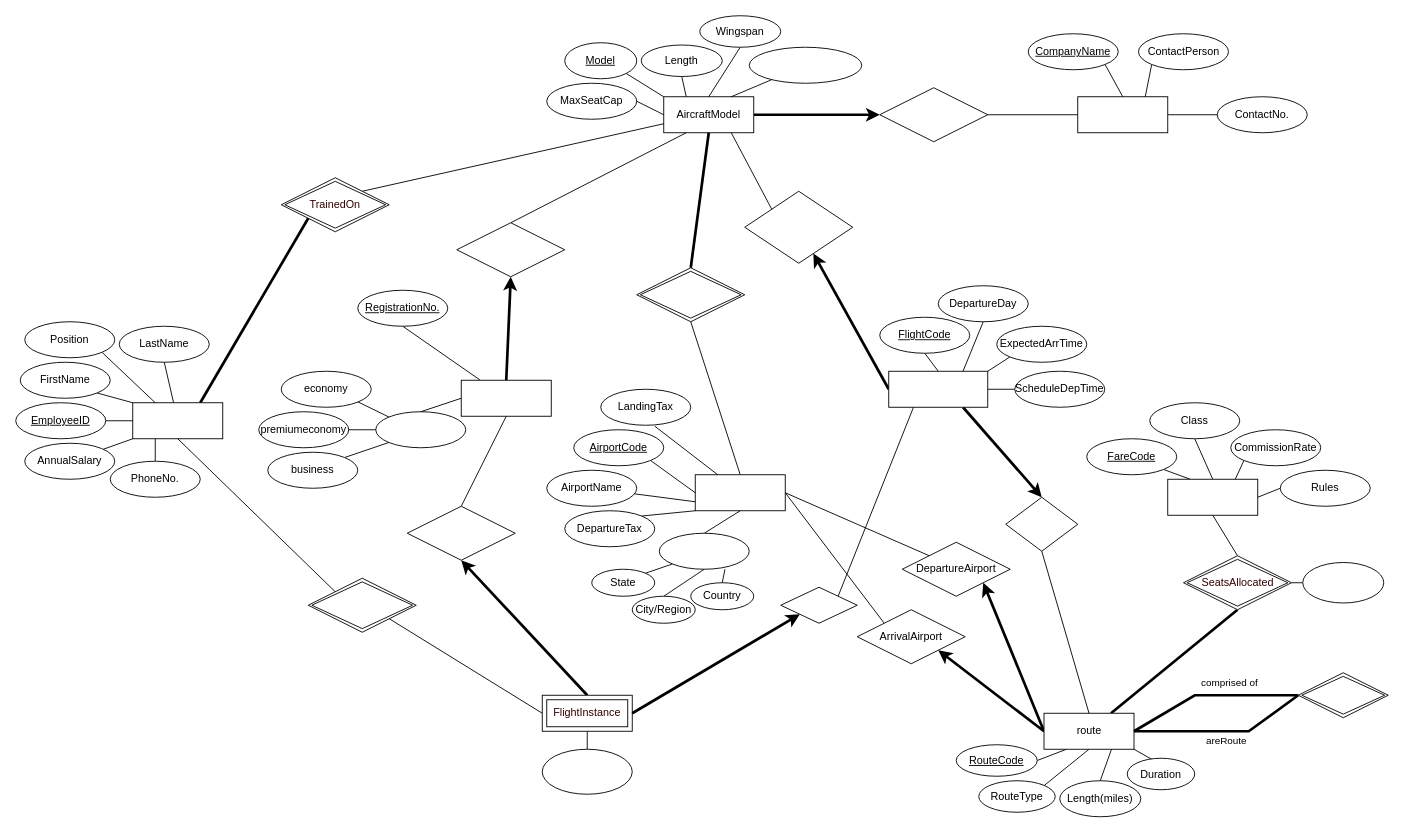
This 1404x833 diagram has some shape labels left out. The shapes that lost their labels are listed below. From the top down, each one's box as (x1, y1, x2, y2) in pixels, then its label:
(748, 46, 862, 83): RunwayLengthReq
(879, 87, 988, 142): Manufactured_by
(1077, 96, 1168, 133): Supplier
(744, 190, 853, 263): DefaultAircraft
(456, 222, 565, 277): Type
(636, 267, 745, 322): CanLand
(460, 379, 551, 416): Aircraft
(888, 370, 988, 407): Flights
(132, 402, 223, 439): FlyingCrew
(375, 411, 466, 448): Seat Capacity
(694, 474, 785, 511): Airport
(1167, 478, 1258, 515): BookingClass
(406, 505, 515, 560): assigned
(1005, 496, 1078, 551): associate
(658, 532, 749, 569): Location
(1302, 562, 1384, 603): Qty
(307, 577, 416, 632): Relationship
(780, 586, 857, 623): Has
(1297, 672, 1388, 718): flightleg
(541, 748, 632, 794): DateofFlight
